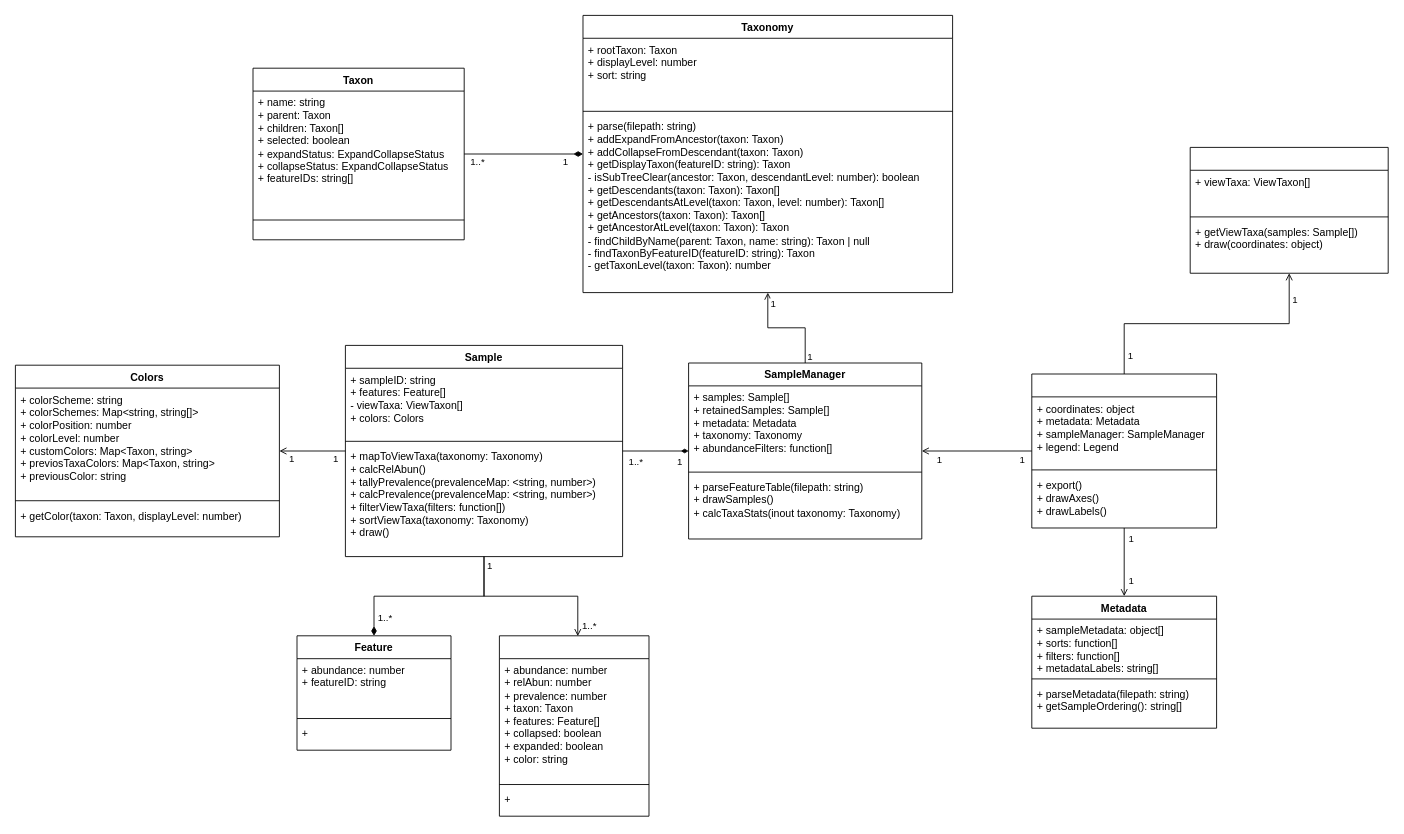
This 1404x834 diagram has some shape labels left out. The shapes that lost their labels are listed below. From the top down, each one's box as (x1, y1, x2, y2) in pixels, then its label:
(1189, 147, 1388, 273): Legend
(1031, 373, 1217, 528): Plot
(499, 635, 649, 816): ViewTaxon
